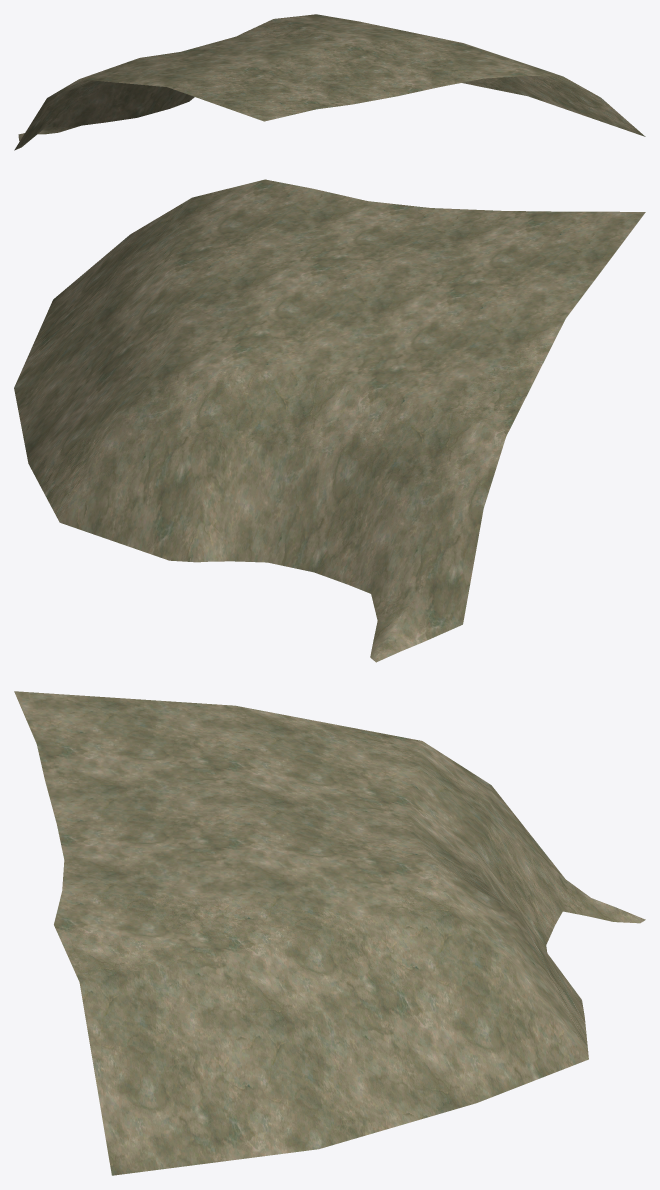
The model's file is OVERHILL_A_01_OBJECT160.fbx.
3 views of the same model, one above another, from view 1: azimuth 30°, elevation 25°; view 2: azimuth 150°, elevation 25°; view 3: azimuth 270°, elevation 25° (orthographic). The views are drawn at different scales.
Parts seen in each view (by area): view 1: OVERHILL_A_01_OBJECT160; view 2: OVERHILL_A_01_OBJECT160; view 3: OVERHILL_A_01_OBJECT160.
Boxes of the visible parts, left/top/right/bottom form: OVERHILL_A_01_OBJECT160: left=14, top=14, right=645, bottom=150; OVERHILL_A_01_OBJECT160: left=14, top=179, right=645, bottom=662; OVERHILL_A_01_OBJECT160: left=14, top=691, right=645, bottom=1175.
Size of the model in its own units: 318912 by 111749 by 264064.
Materials: 2 (2 with a texture image).
